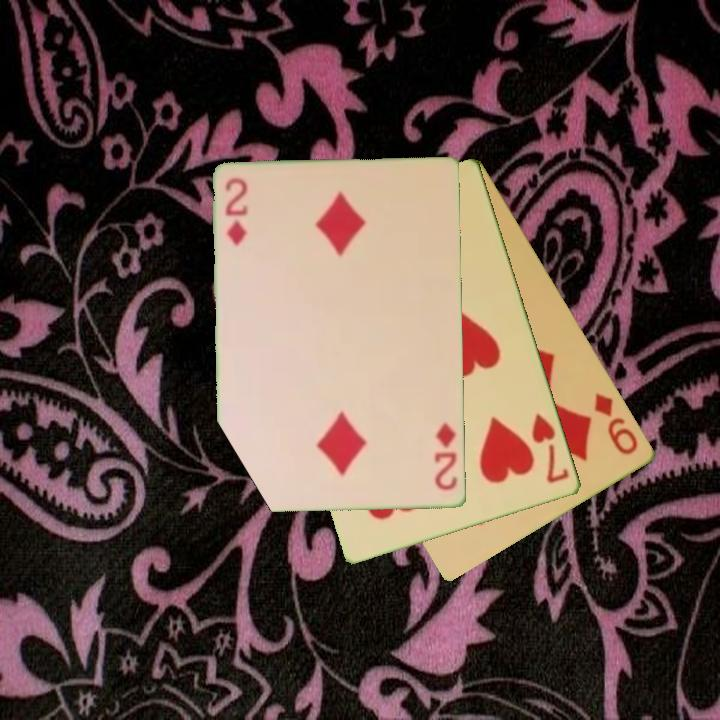2d: (222, 174, 251, 249), (431, 420, 460, 493)
7h: (528, 410, 573, 487)
9d: (591, 389, 642, 458)
